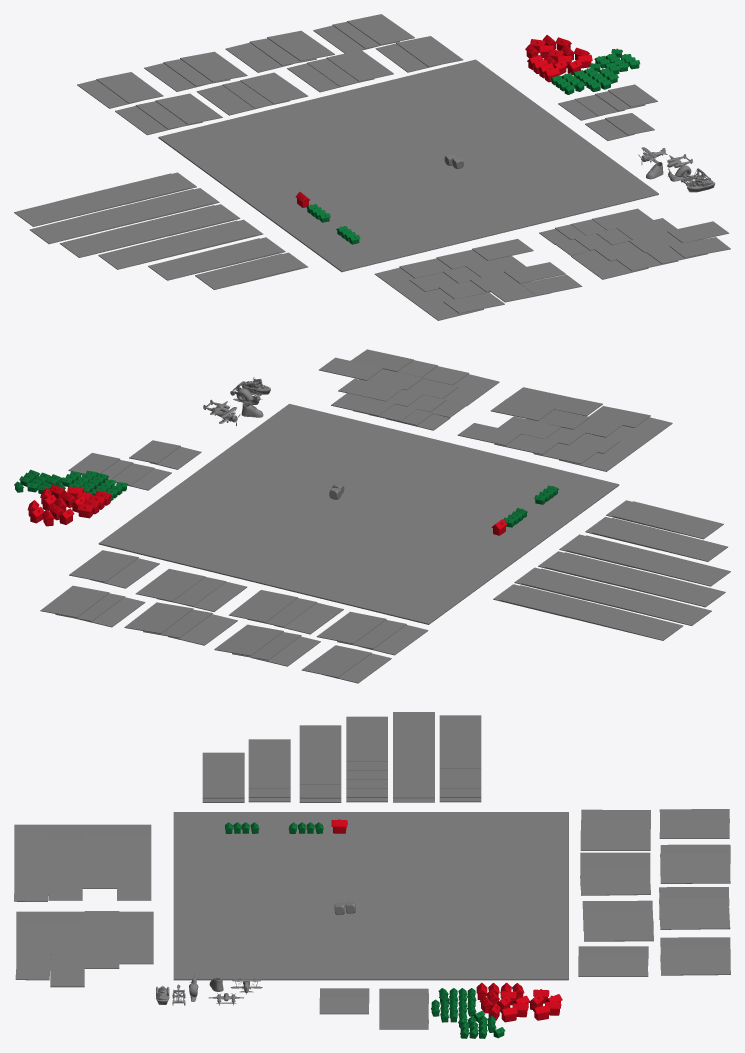
Rendered from Monopoly_fbx.FBX.
The picture shows the model from 3 angles, top to bottom: view 1: azimuth 30°, elevation 25°; view 2: azimuth 150°, elevation 25°; view 3: azimuth 270°, elevation 25°; orthographic projection. The views are drawn at different scales.
Visible parts, largest first — view 1: MonopolyBoard, 1 Monopoly Money 016, 500 Monopoly Money 004, 100 Monopoly Money 008, 20 Monopoly Money 016, 5 Monopoly Money 016, 50 Monopoly Money 012, Pacific Avenue Monopoly, Atlantic Avenue Monopoly, Baltic Avenue Monopoly, Newyork Avenue Monopoly, kentucky Avenue Monopoly (+41 smaller); view 2: MonopolyBoard, 1 Monopoly Money 016, 100 Monopoly Money 008, 5 Monopoly Money 016, 50 Monopoly Money 012, 20 Monopoly Money 016, 500 Monopoly Money 004, Pacific Avenue Monopoly, Atlantic Avenue Monopoly, Baltic Avenue Monopoly, kentucky Avenue Monopoly, Newyork Avenue Monopoly (+38 smaller); view 3: MonopolyBoard, 500 Monopoly Money 004, 50 Monopoly Money 012, 20 Monopoly Money 016, 100 Monopoly Money 008, 1 Monopoly Money 016, Virgina Avenue Monopoly, Oriental Avenue Monopoly, 5 Monopoly Money 016, Newyork Avenue Monopoly, kentucky Avenue Monopoly, Pacific Avenue Monopoly (+39 smaller).
Part boxes in pixels (left/top/right/bottom): MonopolyBoard: left=158, top=59, right=658, bottom=272; 1 Monopoly Money 016: left=14, top=194, right=104, bottom=226; 500 Monopoly Money 004: left=195, top=257, right=284, bottom=289; 100 Monopoly Money 008: left=148, top=248, right=238, bottom=280; 20 Monopoly Money 016: left=59, top=225, right=149, bottom=257; 5 Monopoly Money 016: left=29, top=211, right=119, bottom=244; 50 Monopoly Money 012: left=98, top=237, right=188, bottom=269; Pacific Avenue Monopoly: left=326, top=50, right=393, bottom=81; Atlantic Avenue Monopoly: left=240, top=72, right=308, bottom=104; Baltic Avenue Monopoly: left=96, top=72, right=163, bottom=103; Newyork Avenue Monopoly: left=347, top=14, right=414, bottom=45; kentucky Avenue Monopoly: left=155, top=93, right=222, bottom=124; MonopolyBoard: left=98, top=404, right=619, bottom=624; 1 Monopoly Money 016: left=589, top=607, right=683, bottom=640; 100 Monopoly Money 008: left=634, top=528, right=727, bottom=561; 5 Monopoly Money 016: left=618, top=592, right=711, bottom=625; 50 Monopoly Money 012: left=637, top=552, right=730, bottom=586; 20 Monopoly Money 016: left=632, top=573, right=725, bottom=607; 500 Monopoly Money 004: left=630, top=505, right=723, bottom=539; Pacific Avenue Monopoly: left=135, top=568, right=205, bottom=601; Atlantic Avenue Monopoly: left=229, top=590, right=297, bottom=622; Baltic Avenue Monopoly: left=301, top=645, right=371, bottom=677; kentucky Avenue Monopoly: left=316, top=611, right=386, bottom=643; Newyork Avenue Monopoly: left=40, top=585, right=109, bottom=617; MonopolyBoard: left=173, top=812, right=568, bottom=980; 500 Monopoly Money 004: left=202, top=752, right=244, bottom=789; 50 Monopoly Money 012: left=299, top=725, right=341, bottom=762; 20 Monopoly Money 016: left=346, top=716, right=387, bottom=753; 100 Monopoly Money 008: left=248, top=739, right=290, bottom=775; 1 Monopoly Money 016: left=439, top=715, right=481, bottom=751; Virgina Avenue Monopoly: left=659, top=907, right=730, bottom=929; Oriental Avenue Monopoly: left=660, top=862, right=730, bottom=883; 5 Monopoly Money 016: left=393, top=712, right=434, bottom=748; Newyork Avenue Monopoly: left=660, top=954, right=730, bottom=975; kentucky Avenue Monopoly: left=580, top=830, right=650, bottom=850; Pacific Avenue Monopoly: left=583, top=921, right=653, bottom=941.
Size of the model in its own units: 38.65 by 1.15 by 35.71.
